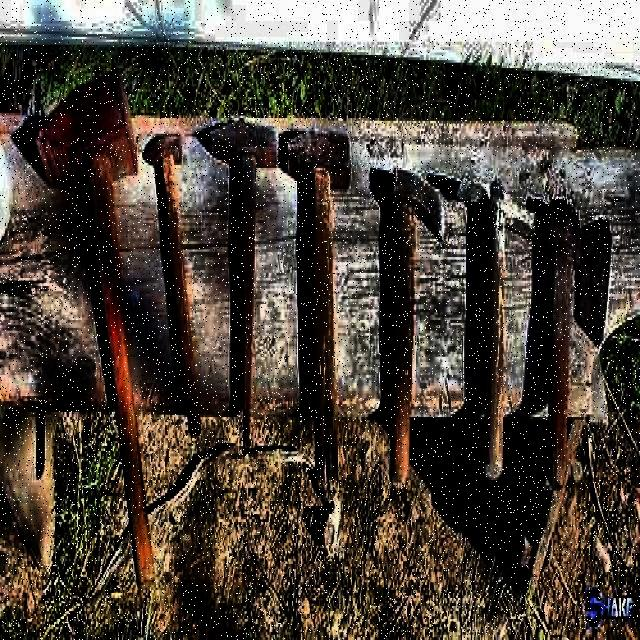hammer: (37, 68, 160, 588), (287, 127, 353, 503), (210, 123, 278, 445), (143, 131, 205, 435)
